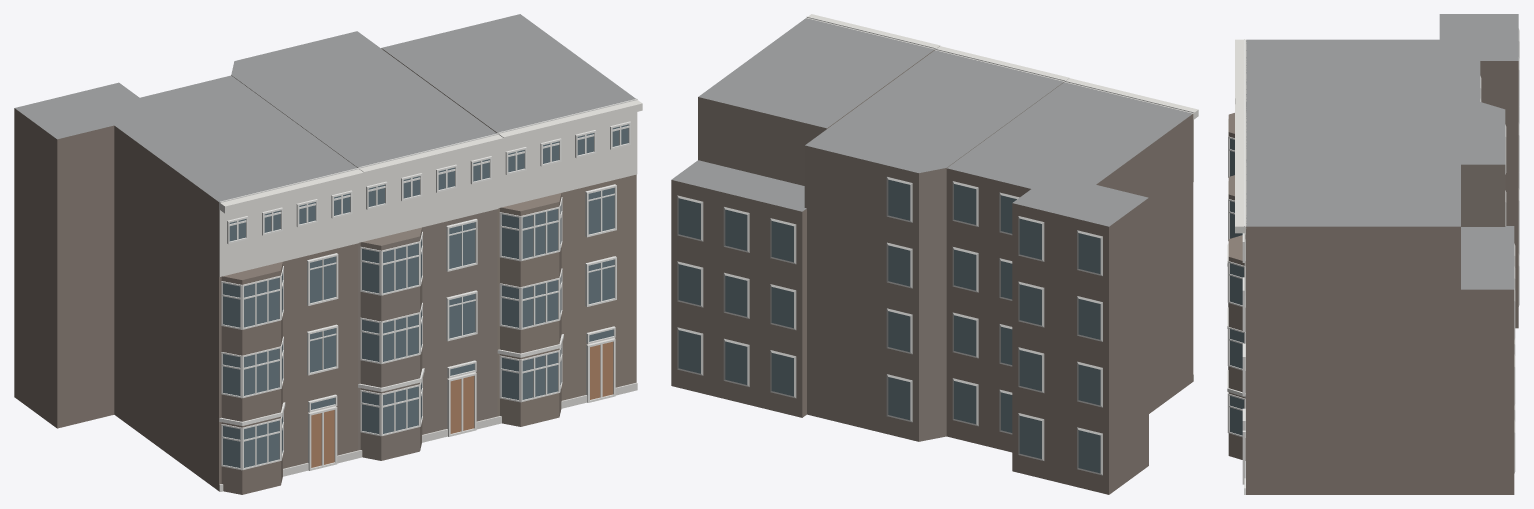
The model's file is chunk-face-hoendiep-5-35-r1.glb.
The picture shows the model from 3 angles, left to right: view 1: azimuth 30°, elevation 25°; view 2: azimuth 150°, elevation 25°; view 3: azimuth 270°, elevation 25°; orthographic projection. The views are drawn at different scales.
Parts seen in each view (by area): view 1: face-hoendiep-5-35-r1; view 2: face-hoendiep-5-35-r1; view 3: face-hoendiep-5-35-r1.
Part boxes in pixels (x1=…): face-hoendiep-5-35-r1: x1=14, y1=14, x2=642, y2=494; face-hoendiep-5-35-r1: x1=671, y1=14, x2=1198, y2=494; face-hoendiep-5-35-r1: x1=1227, y1=14, x2=1519, y2=494.
Bounding box in the file's own units: 20.83 × 12.22 × 12.04.
